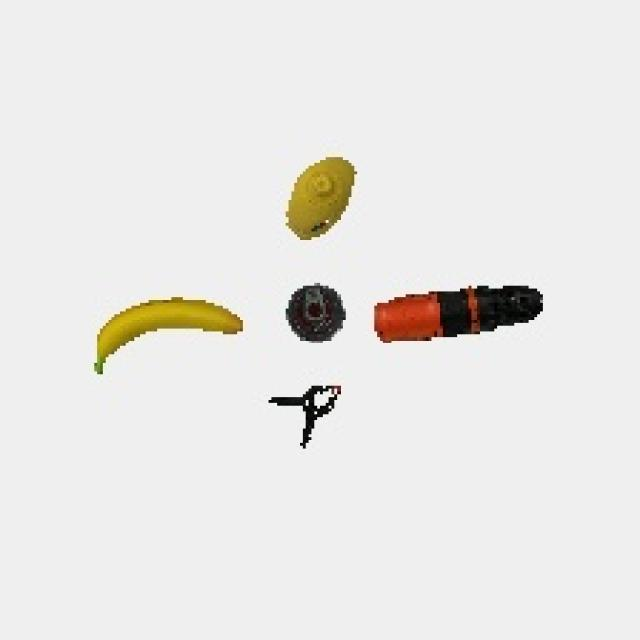Banana: (84, 292, 253, 383)
MediumClamp: (266, 378, 349, 452)
MustardBottle: (272, 151, 364, 252)
PowerDrill: (369, 279, 553, 361)
TomatoSoupCan: (274, 280, 355, 352)
